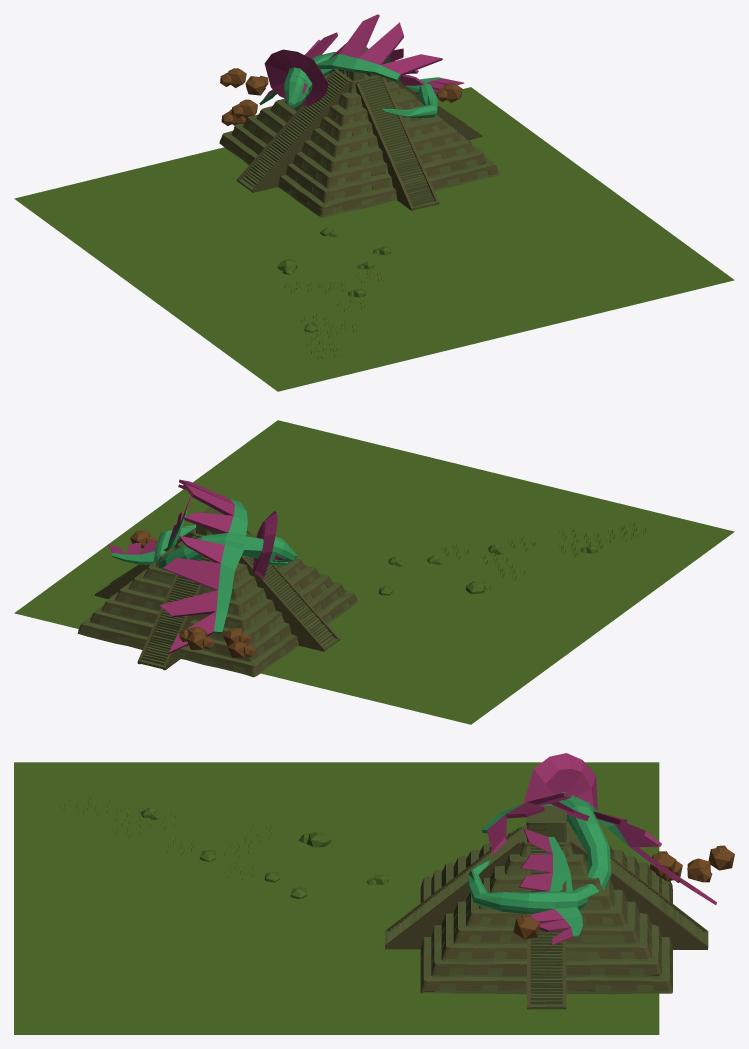
File: fondo_maya.fbx
3 views of the same model, one above another, from view 1: azimuth 30°, elevation 25°; view 2: azimuth 150°, elevation 25°; view 3: azimuth 270°, elevation 25° (orthographic). The views are drawn at different scales.
Visible parts, largest first — view 1: Cube.053; view 2: Cube.053; view 3: Cube.053.
Boxes of the visible parts, left/top/right/bottom form: Cube.053: left=14, top=14, right=734, bottom=391; Cube.053: left=14, top=420, right=734, bottom=724; Cube.053: left=14, top=753, right=734, bottom=1034.
Bounding box in the file's own units: 6114 × 1839 × 6832.
